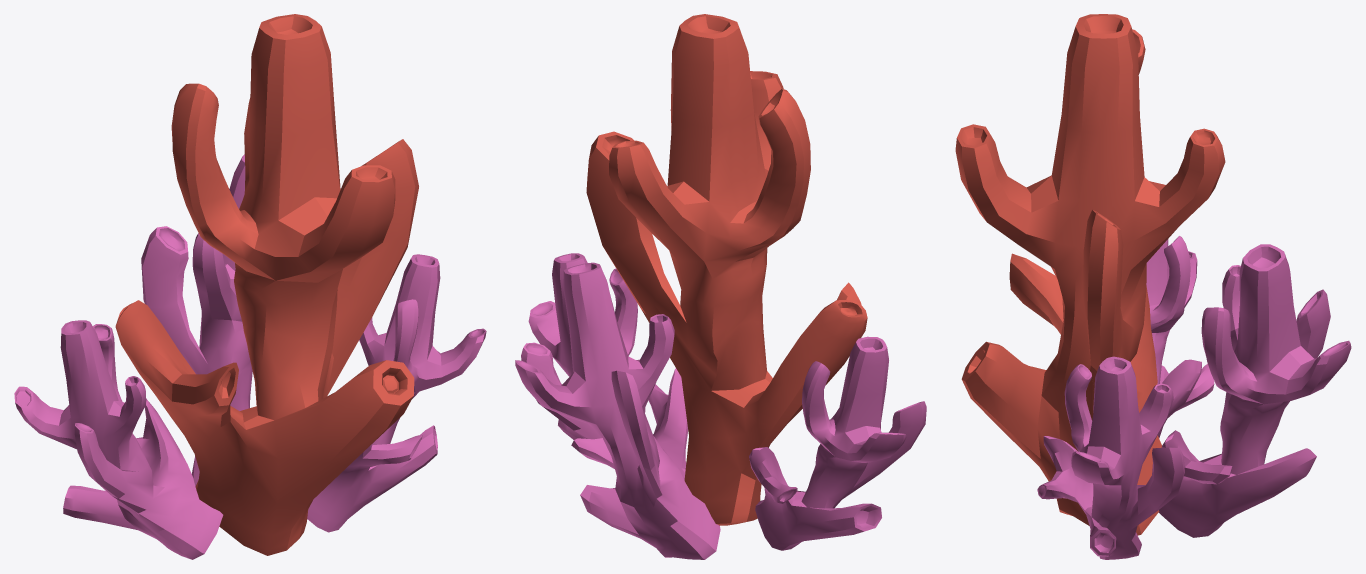
The model's file is coral 2 new.fbx.
3 views of the same model, side by side, from view 1: azimuth 30°, elevation 25°; view 2: azimuth 150°, elevation 25°; view 3: azimuth 270°, elevation 25° (orthographic). The views are drawn at different scales.
Visible parts, largest first — view 1: coral 2, coral 2.002, coral 2.001, coral 2.003; view 2: coral 2, coral 2.003, coral 2.002, coral 2.001; view 3: coral 2, coral 2.003, coral 2.001, coral 2.002.
Part boxes in pixels (x1=…): coral 2: x1=115, y1=14, x2=418, y2=555; coral 2.002: x1=14, y1=320, x2=223, y2=559; coral 2.001: x1=307, y1=254, x2=486, y2=532; coral 2.003: x1=141, y1=154, x2=252, y2=486; coral 2: x1=586, y1=14, x2=867, y2=525; coral 2.003: x1=515, y1=262, x2=720, y2=559; coral 2.002: x1=749, y1=336, x2=926, y2=550; coral 2.001: x1=521, y1=253, x2=688, y2=480; coral 2: x1=955, y1=14, x2=1225, y2=535; coral 2.003: x1=1158, y1=244, x2=1351, y2=537; coral 2.001: x1=1037, y1=356, x2=1184, y2=559; coral 2.002: x1=1146, y1=236, x2=1214, y2=438.
Bounding box in the file's own units: 1189 × 1376 × 955.
